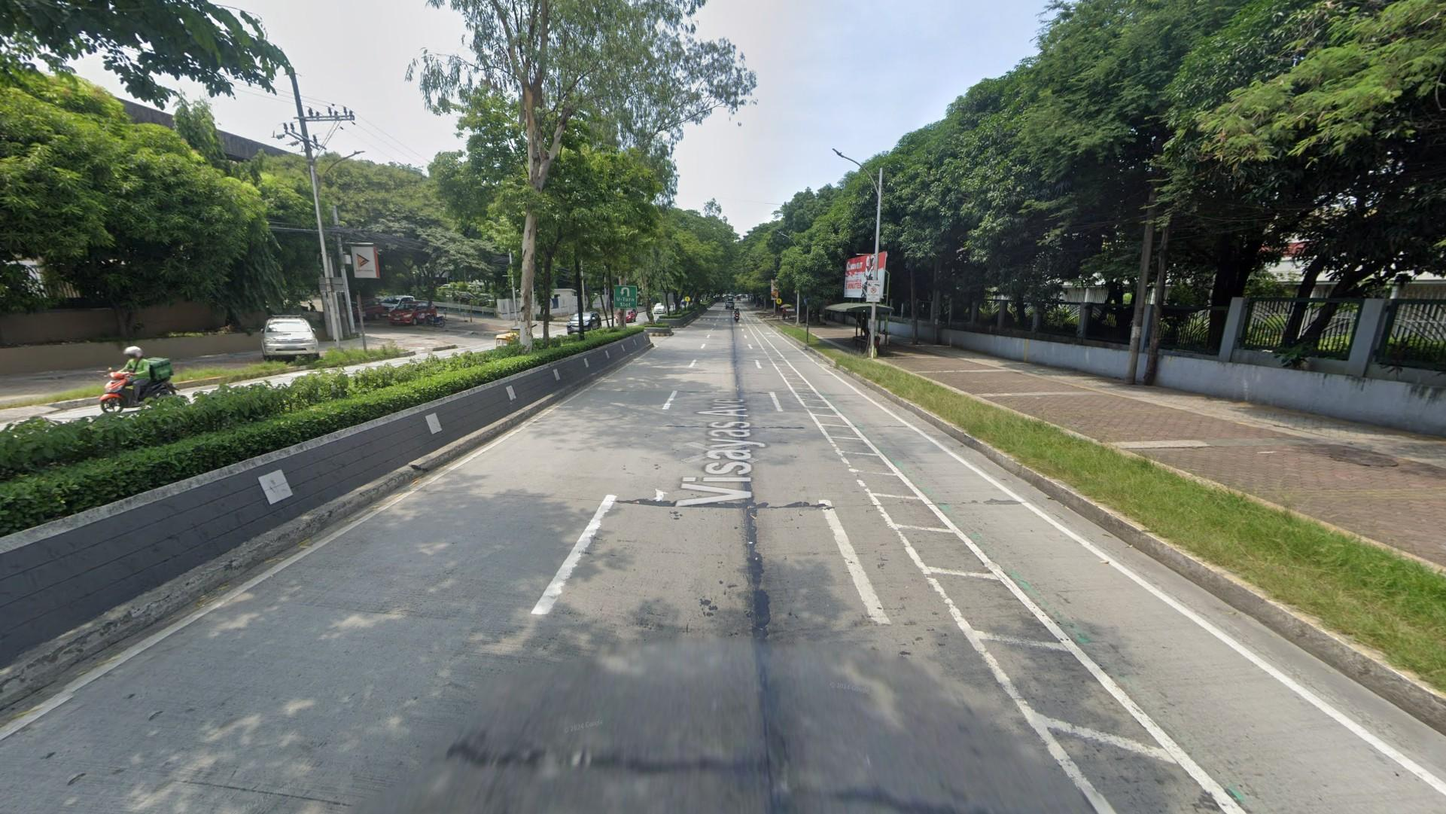pedestrian: (782, 307, 786, 321)
